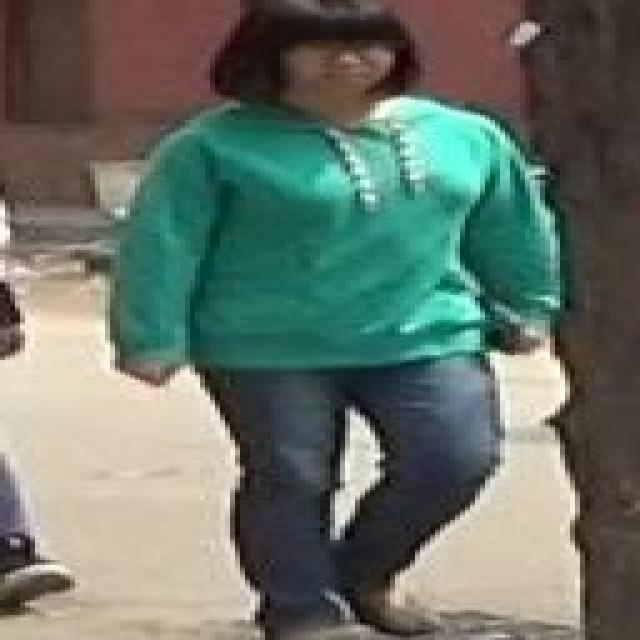adult: (110, 0, 547, 640)
